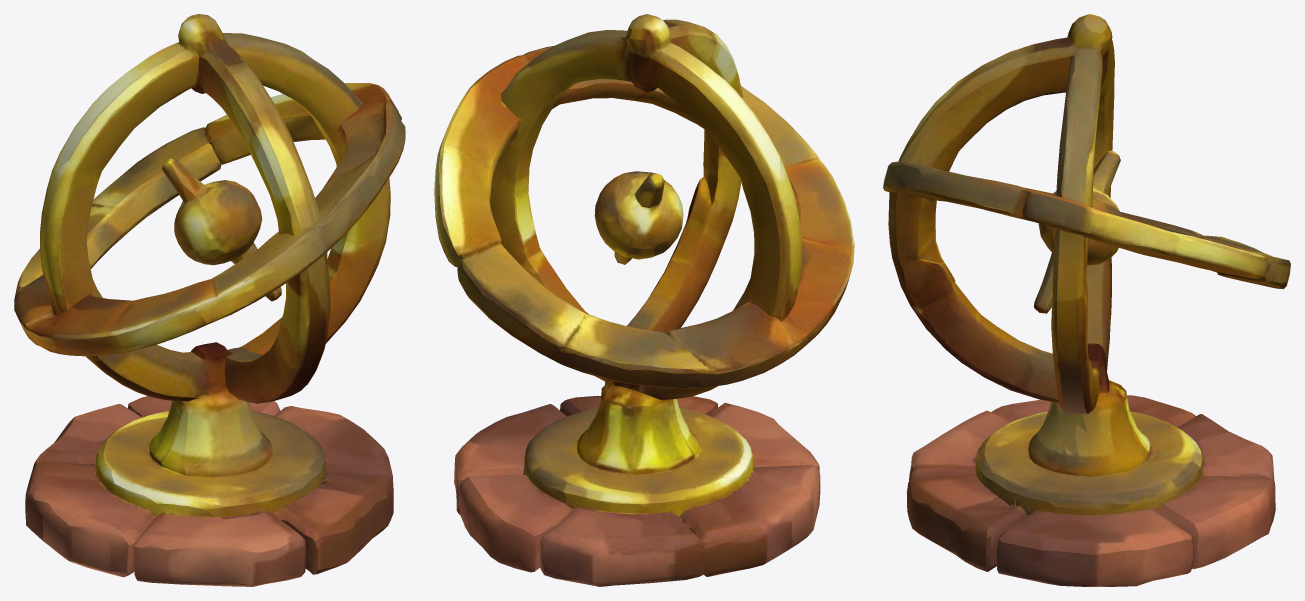
Rendered from a-large-brass-astrolabe-on-a-sto-0fe5fa.glb.
3 views of the same model, side by side, from view 1: azimuth 30°, elevation 25°; view 2: azimuth 150°, elevation 25°; view 3: azimuth 270°, elevation 25° (orthographic).
Parts seen in each view (by area): view 1: geometry_0; view 2: geometry_0; view 3: geometry_0.
Part boxes in pixels (left/top/right/bottom): geometry_0: left=14, top=14, right=405, bottom=586; geometry_0: left=434, top=14, right=854, bottom=586; geometry_0: left=883, top=14, right=1290, bottom=586.
Size of the model in its own units: 0.7363 by 1 by 0.7531.
1 material, 1 textured.
